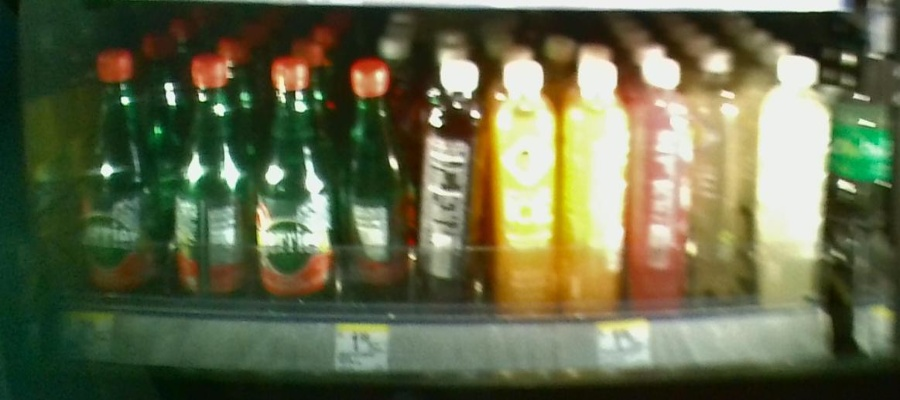bottle: (81, 45, 163, 305), (255, 54, 337, 306), (173, 48, 252, 308), (761, 51, 833, 307), (419, 54, 488, 306), (342, 55, 412, 301), (566, 48, 631, 311), (494, 51, 559, 311), (635, 48, 697, 305), (700, 45, 755, 305)
